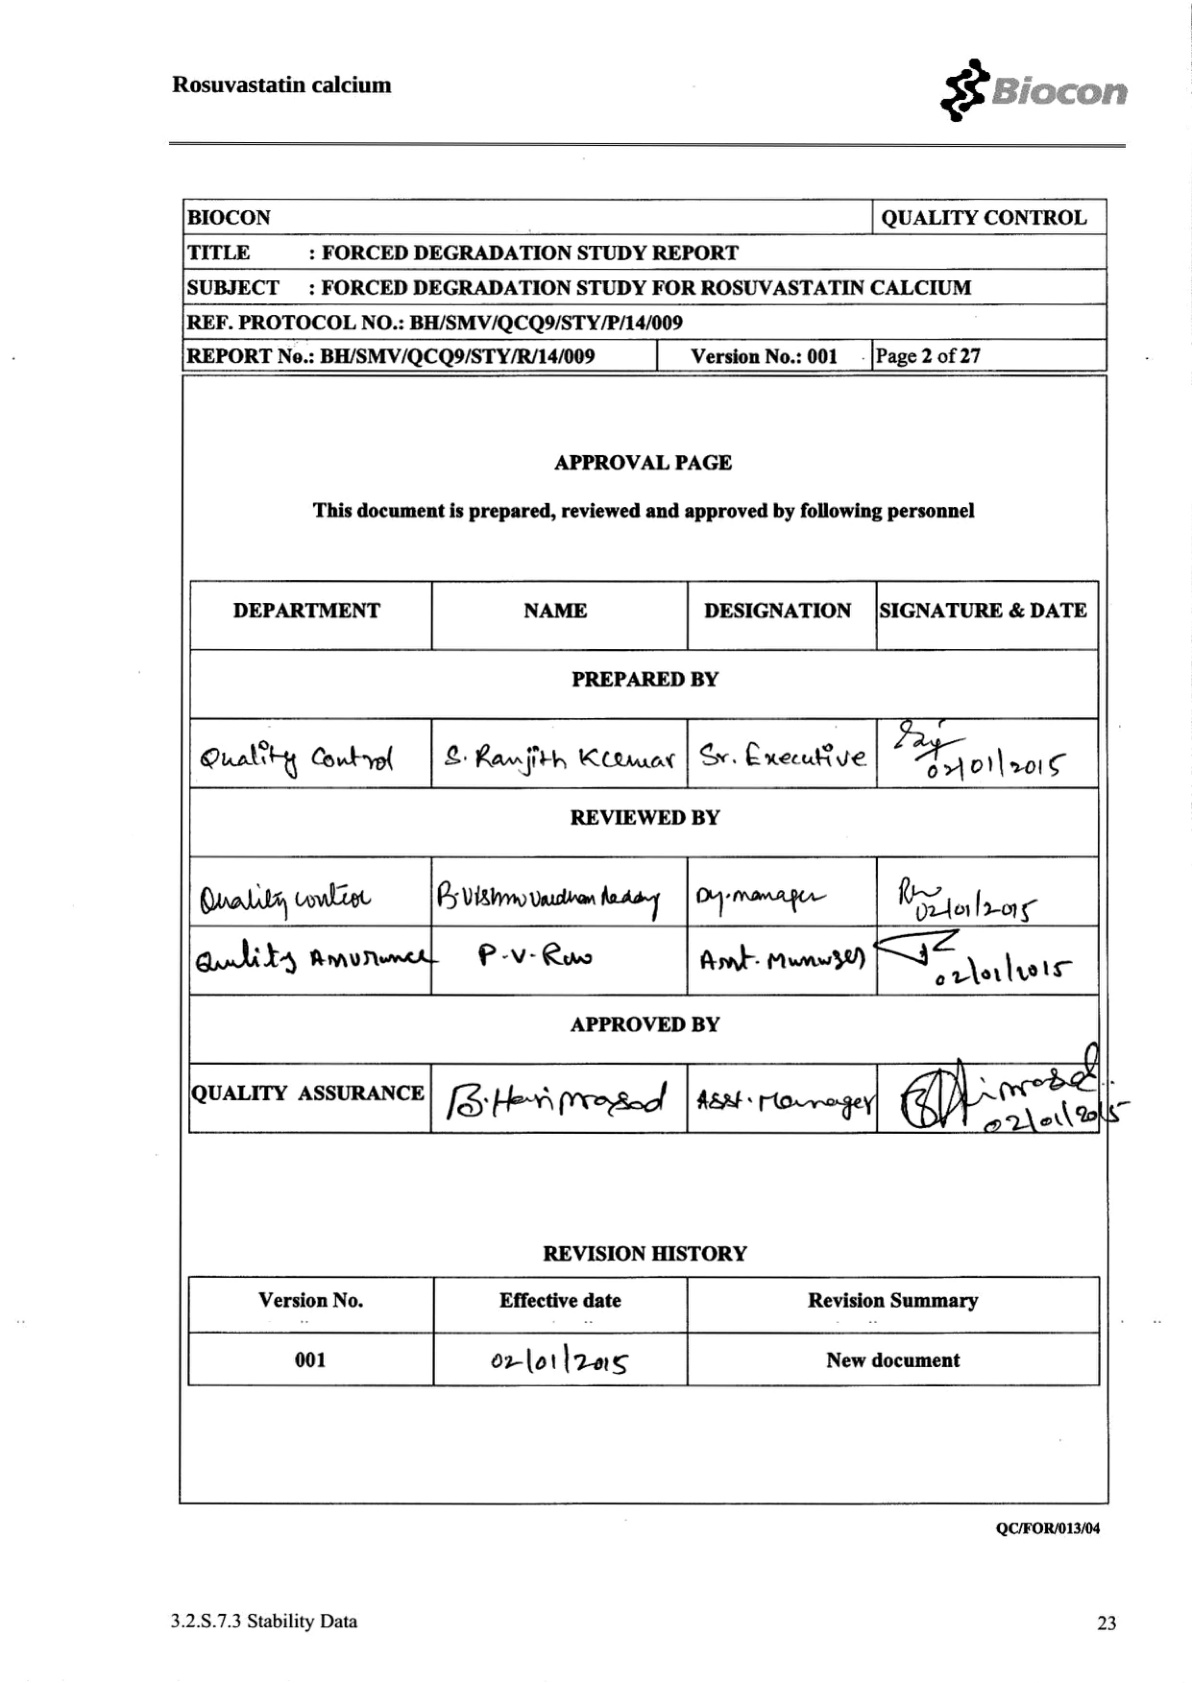full_lined: (187, 1274, 1100, 1386)
merged_cells: (188, 578, 1100, 1135), (181, 197, 1109, 371)
